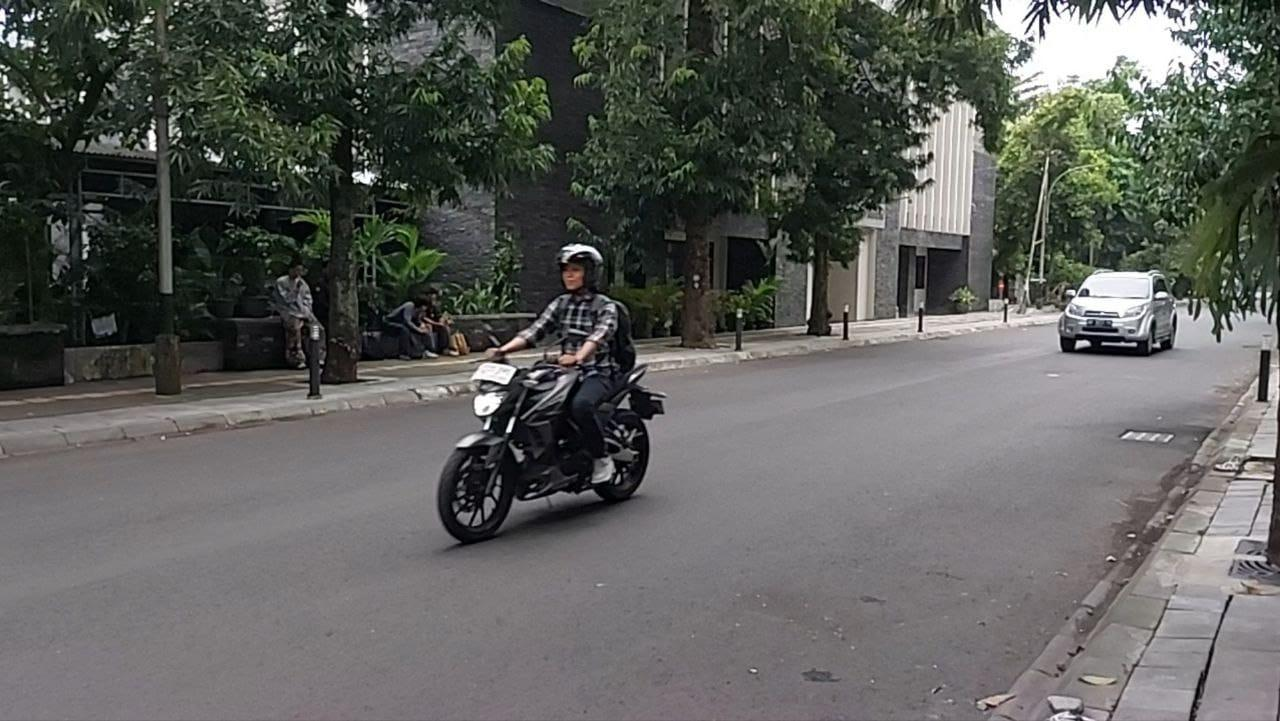helm: (554, 243, 605, 293)
riding: (435, 241, 669, 543)
